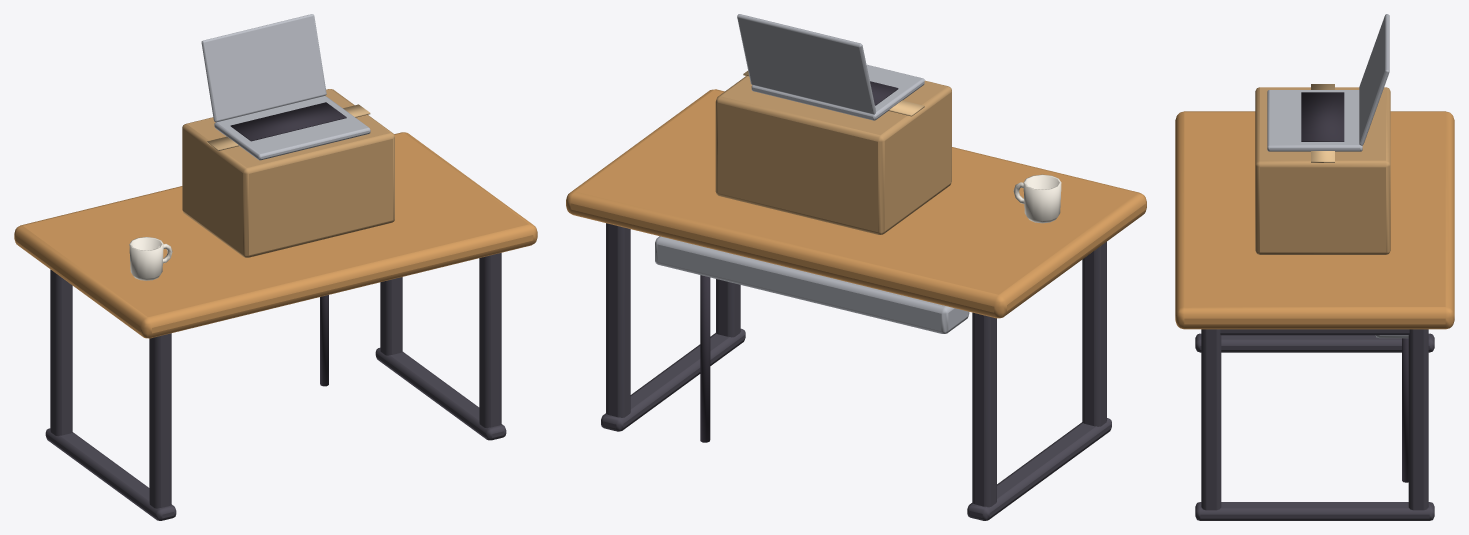
The model's file is standing_desk_l1.glb.
3 views of the same model, side by side, from view 1: azimuth 30°, elevation 25°; view 2: azimuth 150°, elevation 25°; view 3: azimuth 270°, elevation 25° (orthographic). The views are drawn at different scales.
Parts seen in each view (by area): view 1: standing_desk_l1; view 2: standing_desk_l1; view 3: standing_desk_l1.
Part boxes in pixels (x1=…): standing_desk_l1: x1=14, y1=14, x2=537, y2=520; standing_desk_l1: x1=566, y1=14, x2=1146, y2=520; standing_desk_l1: x1=1175, y1=14, x2=1454, y2=520.
Size of the model in its own units: 1.2 by 1.11 by 0.7.
